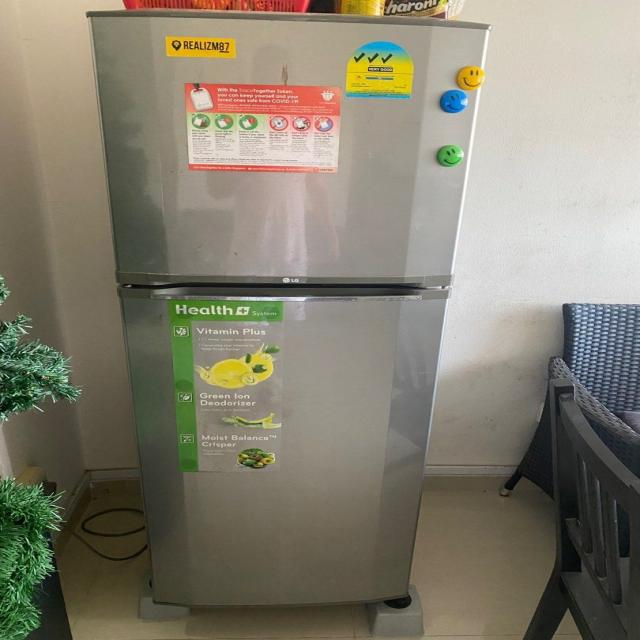refrigerator: (87, 9, 494, 605)
